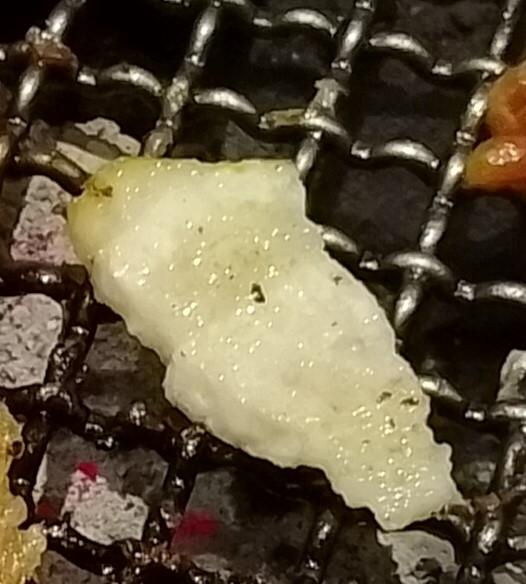Undercooked: (66, 159, 468, 534)
